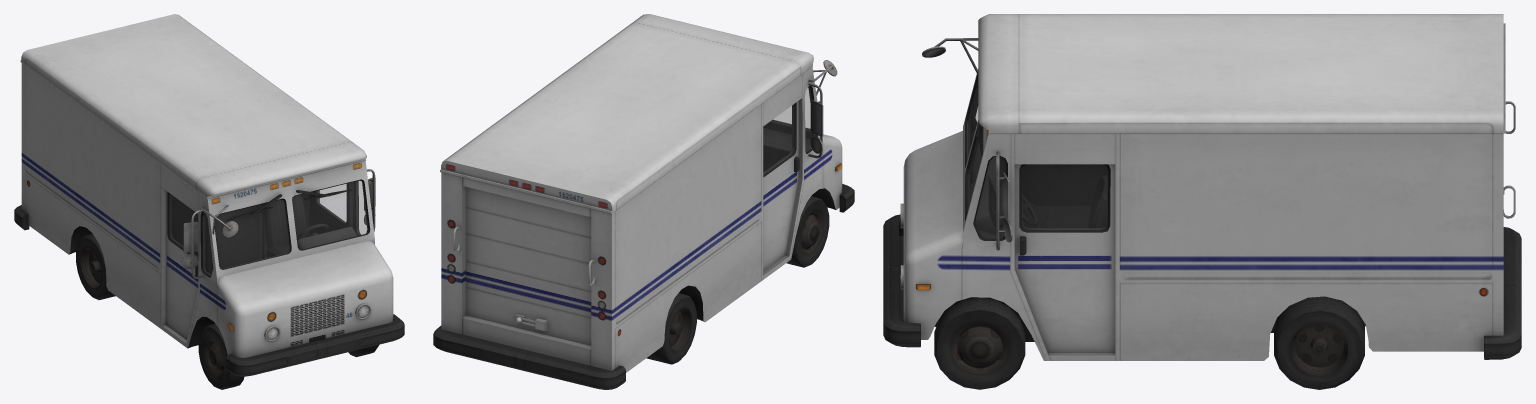
Rendered from mailtruck2.glb.
The picture shows the model from 3 angles, left to right: view 1: azimuth 30°, elevation 25°; view 2: azimuth 150°, elevation 25°; view 3: azimuth 270°, elevation 25°; orthographic projection. The views are drawn at different scales.
Parts seen in each view (by area): view 1: MailTruck01; view 2: MailTruck01; view 3: MailTruck01.
Part boxes in pixels (x1=…): MailTruck01: x1=14, y1=14, x2=404, y2=389; MailTruck01: x1=433, y1=14, x2=854, y2=389; MailTruck01: x1=883, y1=14, x2=1521, y2=389.
Bounding box in the file's own units: 2.62 × 2.58 × 5.4.
Materials: 3 (3 with a texture image).
